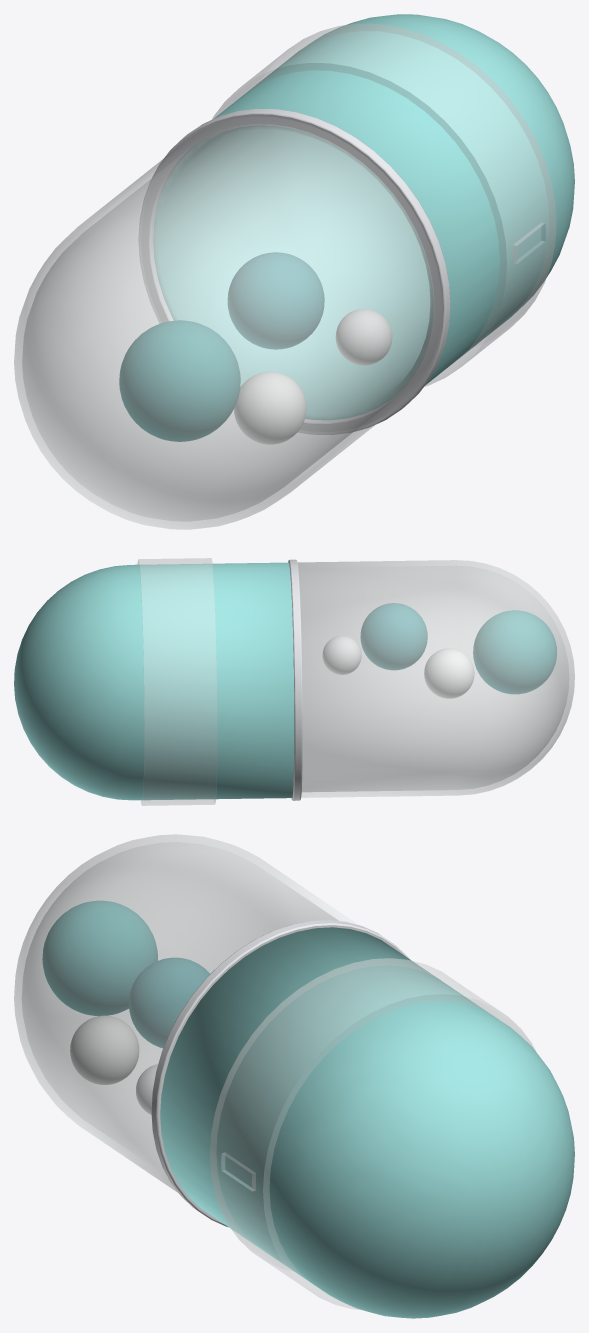
3 renders of one model, top to bottom at view 1: azimuth 30°, elevation 25°; view 2: azimuth 150°, elevation 25°; view 3: azimuth 270°, elevation 25°, orthographic. The views are drawn at different scales.
Visible parts, largest first — view 1: shell_b, shell_a, label, seam, bead1, bead3, bead2, bead4; view 2: shell_a, shell_b, label, bead1, bead3, seam, bead2, bead4; view 3: shell_a, shell_b, label, bead1, bead3, seam, bead2, bead4.
Part boxes in pixels (x1,y1,x2,y2): shell_b: [14, 117, 441, 529]; shell_a: [153, 14, 574, 420]; label: [212, 23, 556, 386]; seam: [138, 108, 450, 434]; bead1: [119, 320, 240, 441]; bead3: [227, 252, 324, 349]; bead2: [234, 371, 306, 444]; bead4: [335, 309, 392, 365]; shell_a: [14, 562, 294, 800]; shell_b: [297, 560, 574, 797]; label: [137, 558, 217, 805]; bead1: [473, 610, 556, 694]; bead3: [360, 603, 427, 670]; seam: [288, 559, 302, 800]; bead2: [424, 648, 474, 698]; bead4: [322, 635, 361, 674]; shell_a: [160, 927, 574, 1318]; shell_b: [14, 834, 358, 1192]; label: [210, 958, 535, 1309]; bead1: [42, 900, 157, 1016]; bead3: [129, 957, 209, 1048]; seam: [151, 920, 409, 1227]; bead2: [70, 1015, 139, 1084]; bead4: [136, 1064, 157, 1114].
Size of the model in its own units: 1.82 by 0.88 by 1.45.
